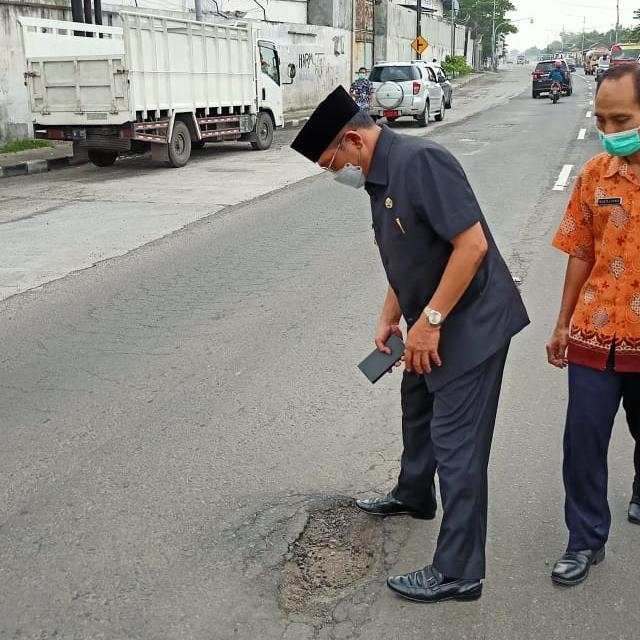lubang_kecil: (225, 472, 399, 627)
